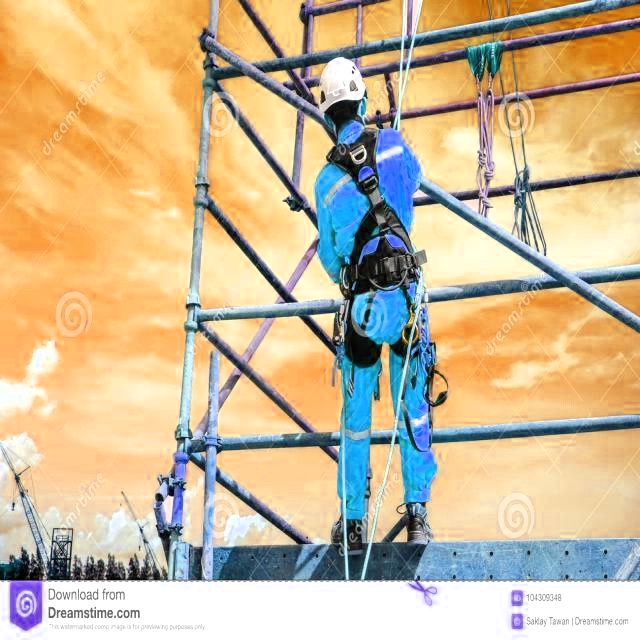safety belt: (304, 134, 452, 374)
